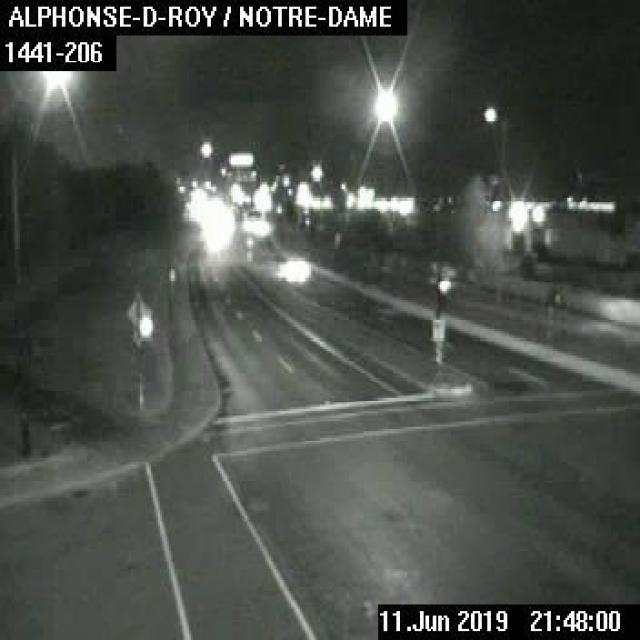vehicle: (278, 253, 311, 280)
